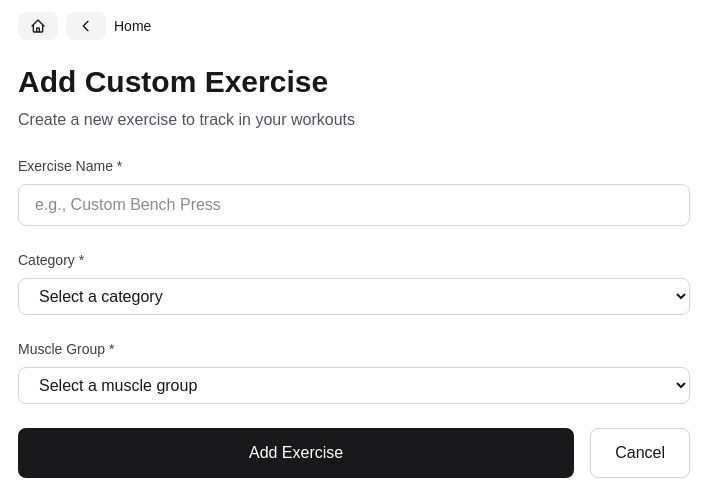
Test: AddExerciseForm › should disable submit button while saving
Type "Custom Exercise" into the field with placeholder "e.g., Custom Bench Press" at (354, 205), box [18,184,690,226]
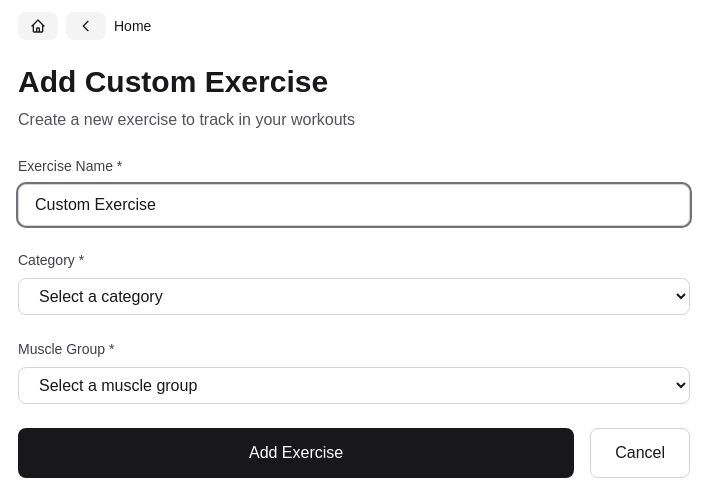
Select "Chest" in the dropdown below "Category *" at (354, 296), box [18,278,690,315]
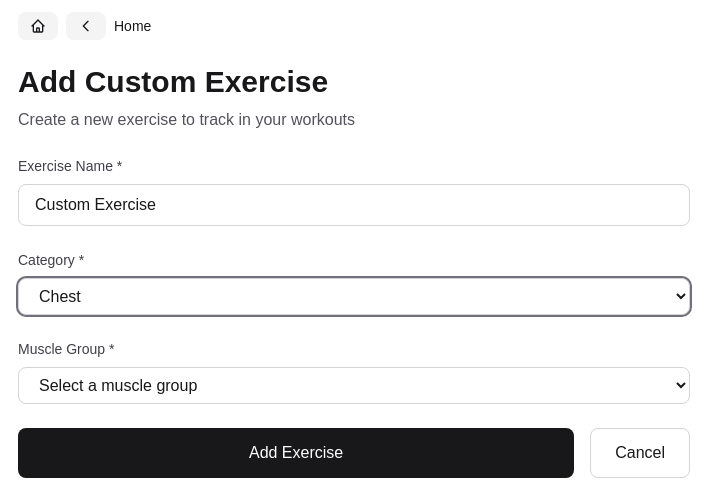
Select "Upper Body" in the dropdown below "Muscle Group *" at (354, 386), box [18,367,690,404]
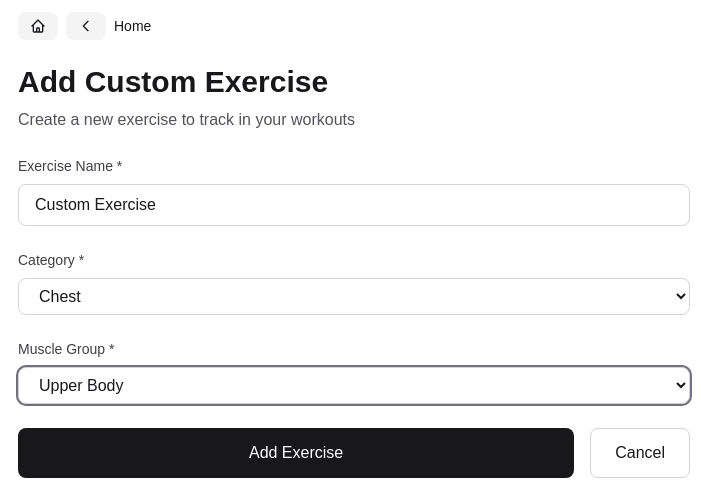
Click the button "Add Exercise" at (296, 453), box [18,428,574,478]
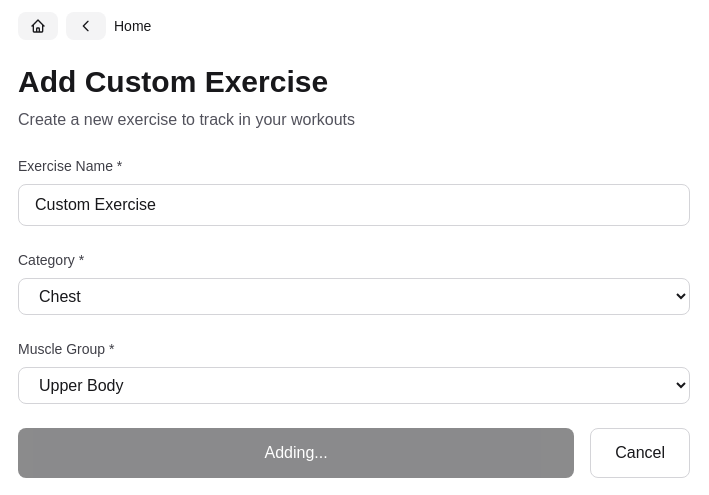
Check: the button "Adding..." is disabled, box [18,428,574,478]
